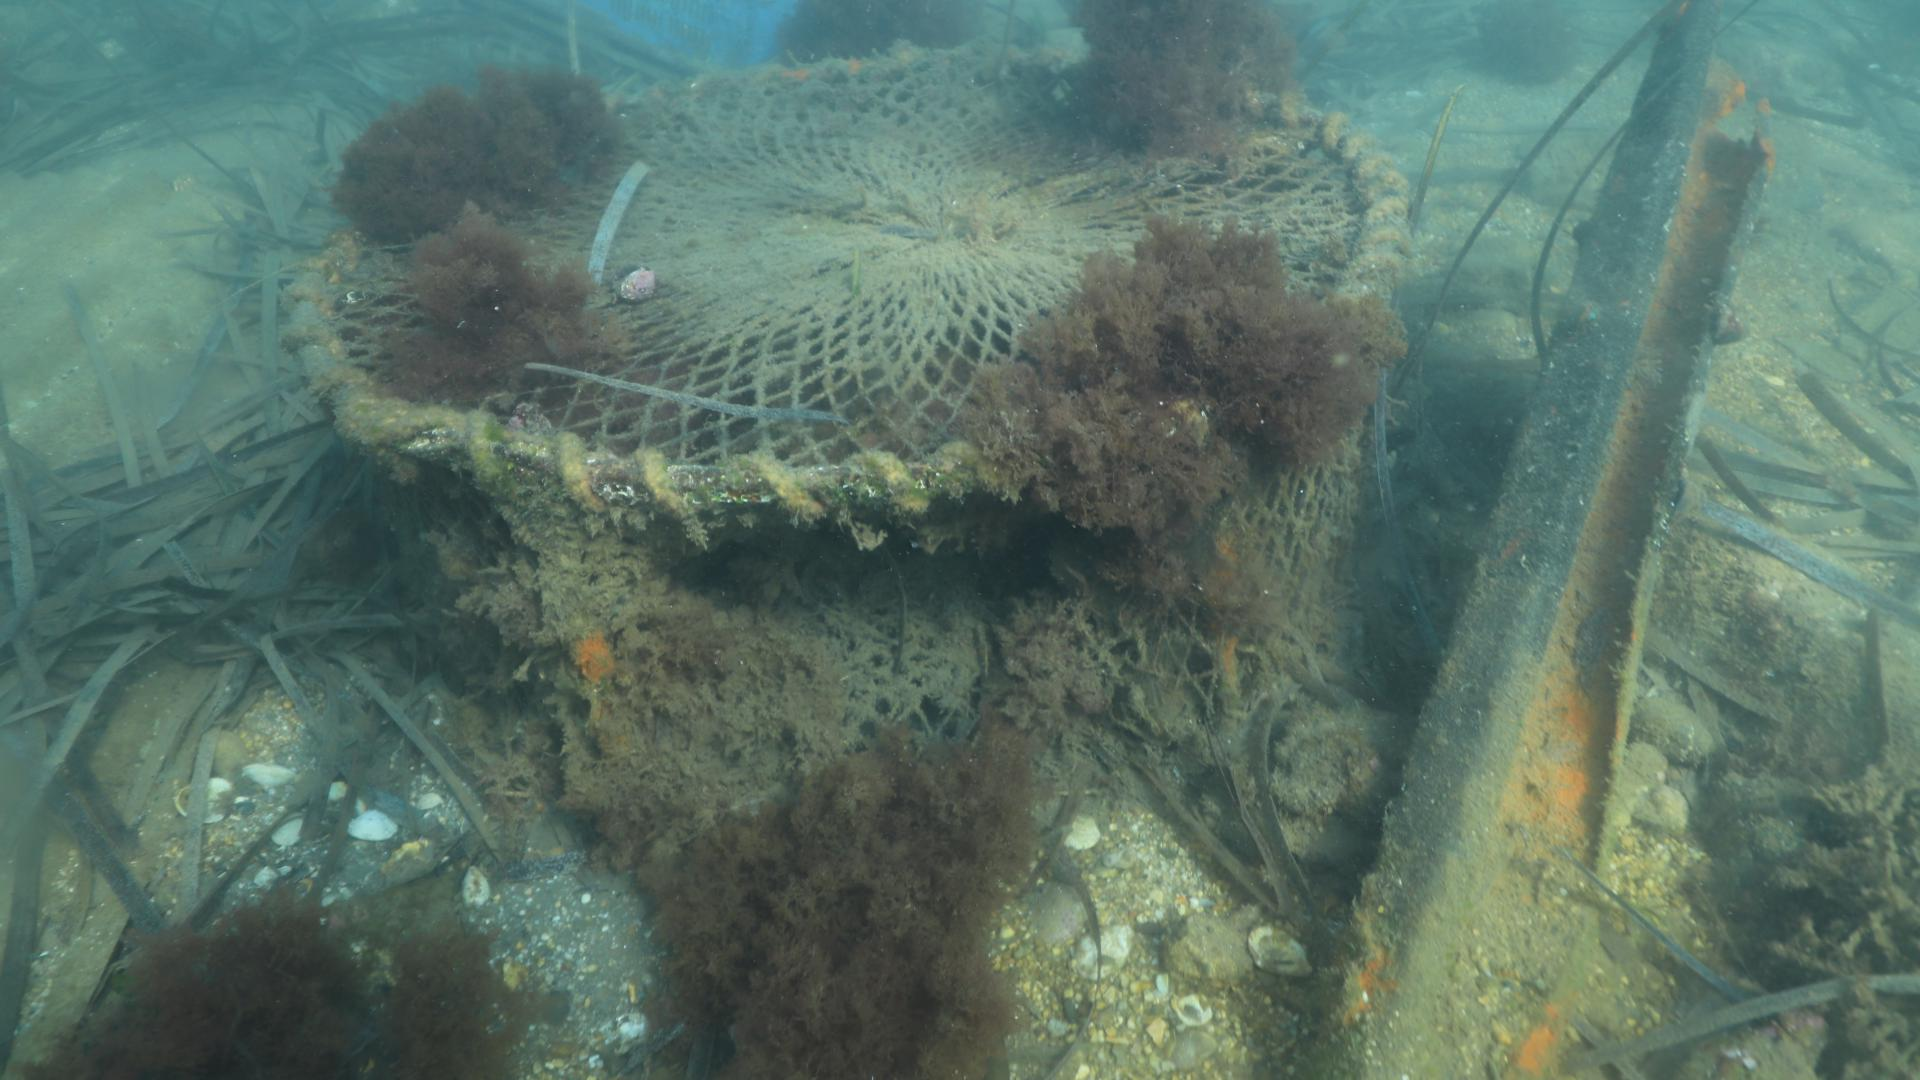circular fish trap: (285, 46, 1412, 754)
